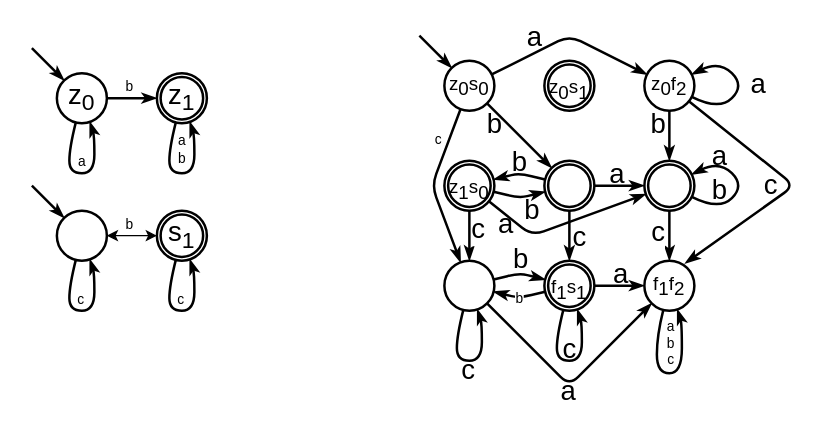
Some shapes in this 826 by 429 pixel diagram are drawn without their labels. The centre of each missing label's shape, as x and y in pixels:
f 1 s 0: the point at 468,285
s 0: the point at 81,235
z 1 f 2: the point at 668,185
z 1 s 1: the point at 568,185
